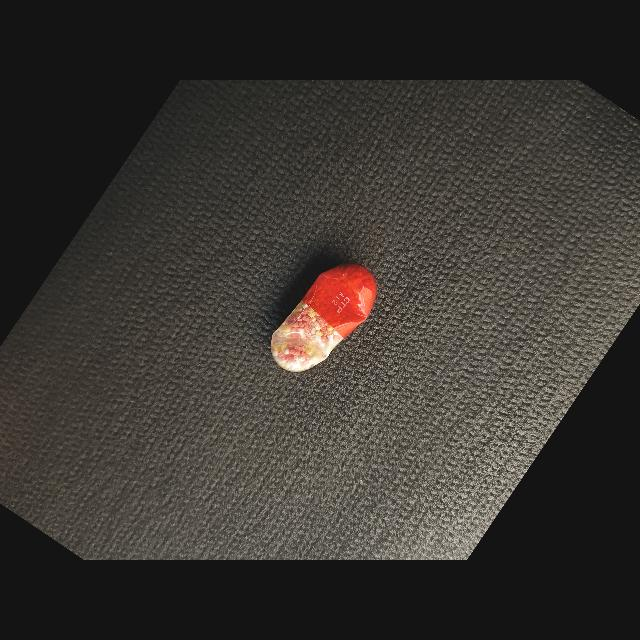Defective Capsule: (271, 264, 377, 372)
